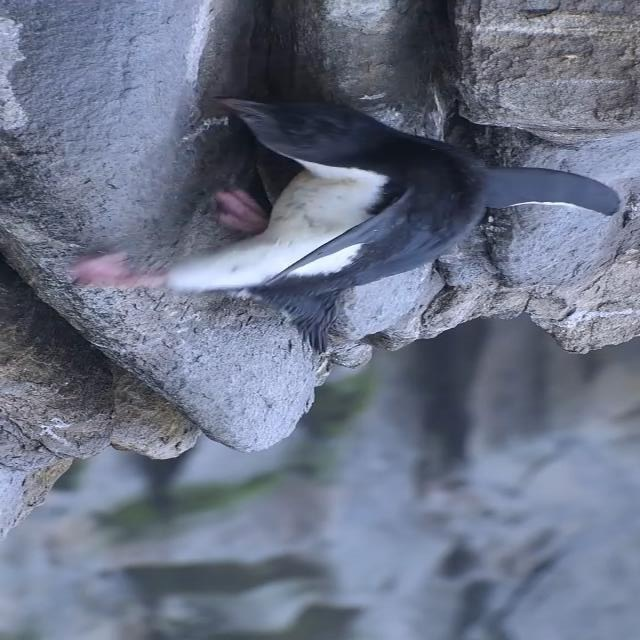penguin: (60, 92, 622, 354)
